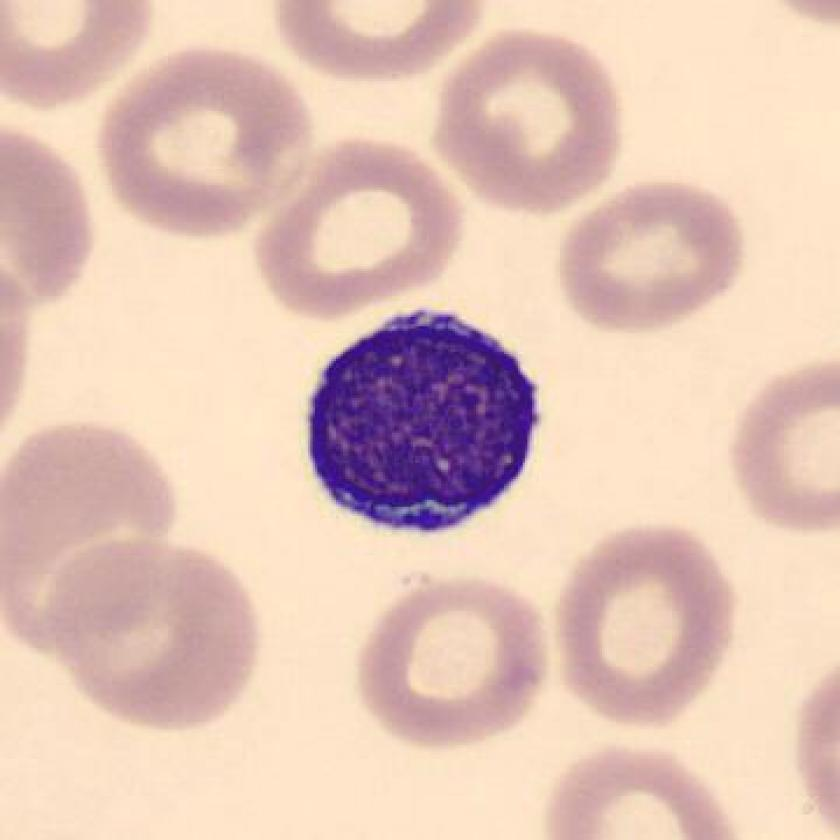lymphocyte: (279, 300, 570, 550)
